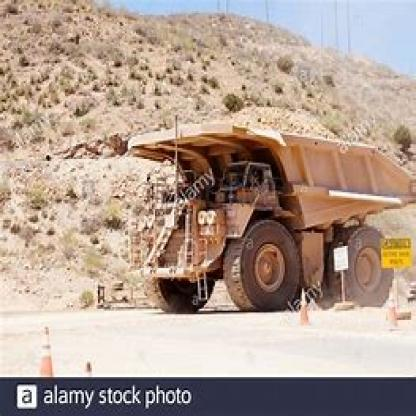dump_truck: (126, 118, 414, 305)
